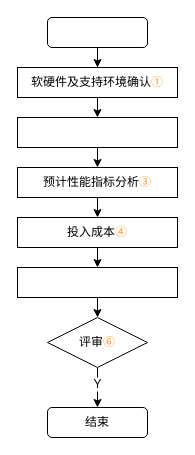
This 195x455 diagram has some shape labels left out. The centre of each missing label's shape, as x and y in pixels:
"关键功能需求 ②" goes at pixel 97 132.
"开始" goes at pixel 97 32.
"风险控制措施 ⑤" goes at pixel 97 282.
